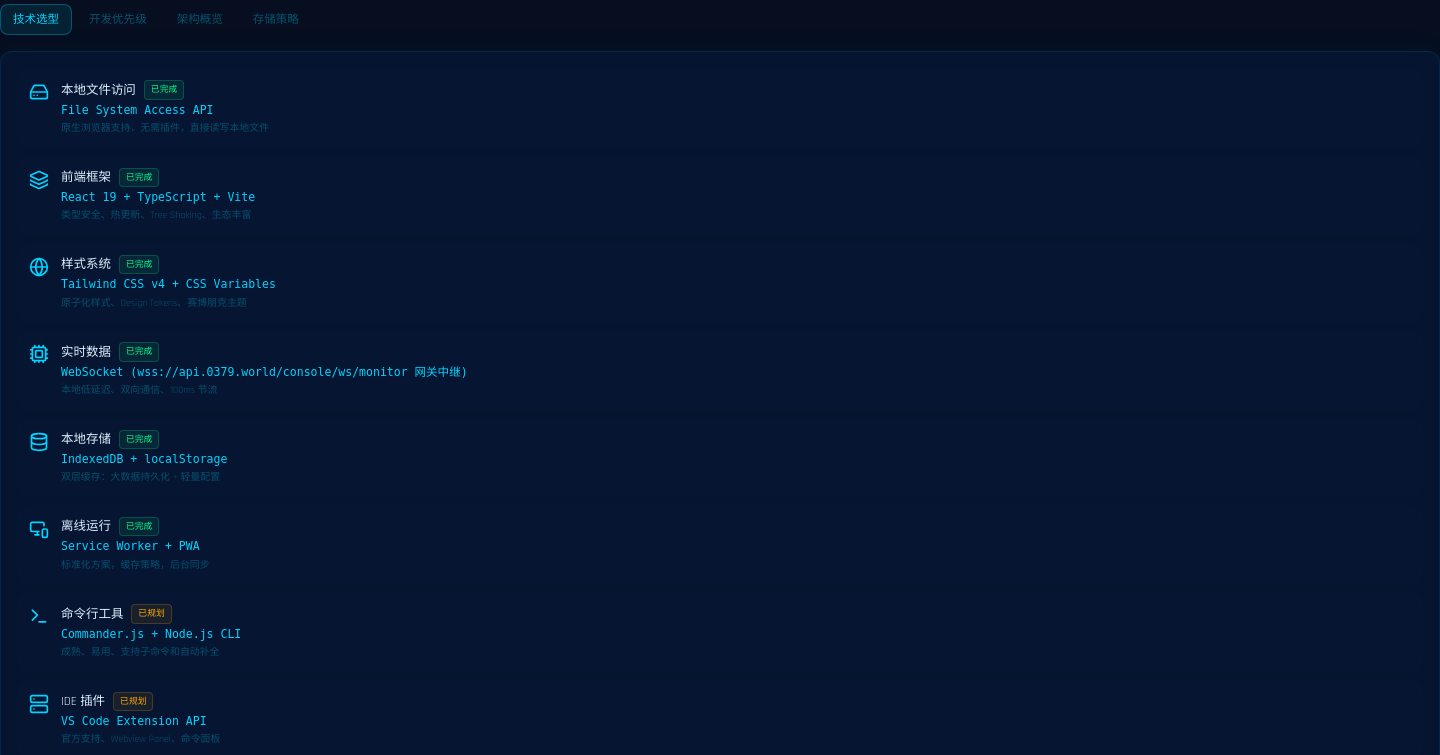
Test: DevGuidePage › 切换到开发优先级
Click the button with test id "devguide-tab-priority" at (118, 20), box [76,4,160,36]
(page scrolled)
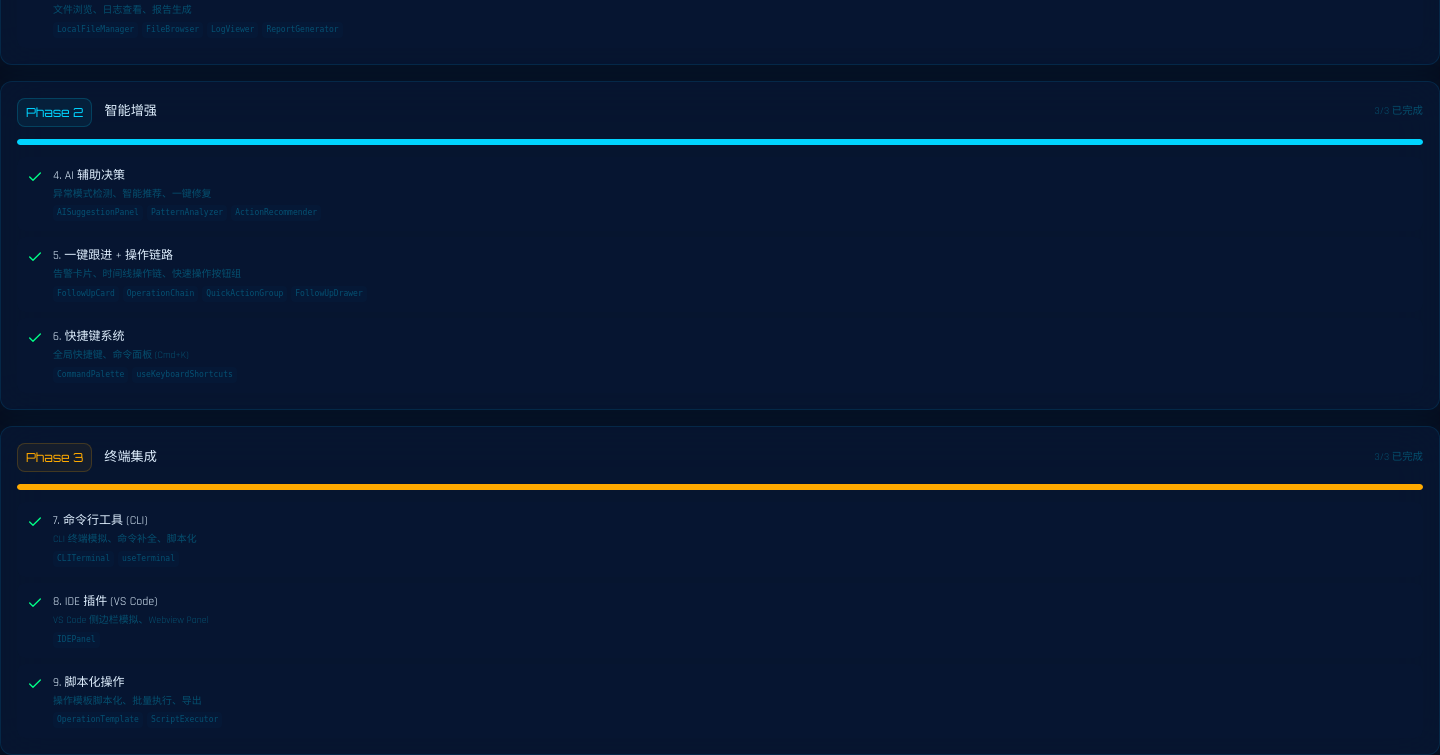
Expected: the element with test id "phase-2" is shown, [0,81,1439,410]
Expected: the element with test id "phase-3" is shown, [0,426,1439,754]
